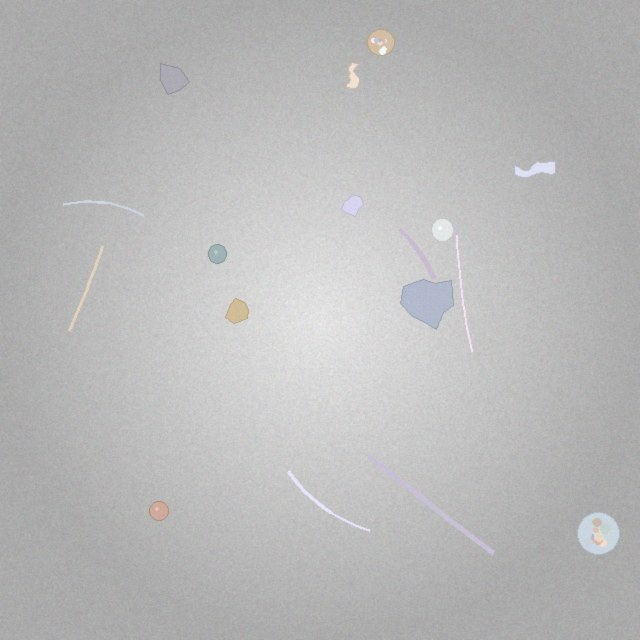fiber: (363, 451, 499, 559), (285, 469, 372, 534), (66, 244, 106, 333), (394, 224, 440, 284), (454, 233, 474, 354), (60, 198, 147, 219)
film: (514, 161, 555, 178), (346, 63, 360, 89)
foam: (578, 513, 620, 555), (368, 29, 394, 56)
fragment: (401, 280, 454, 329), (160, 64, 190, 94), (225, 299, 248, 323), (342, 195, 363, 216)
pellet: (431, 219, 454, 242), (150, 501, 169, 520), (208, 245, 227, 263)
